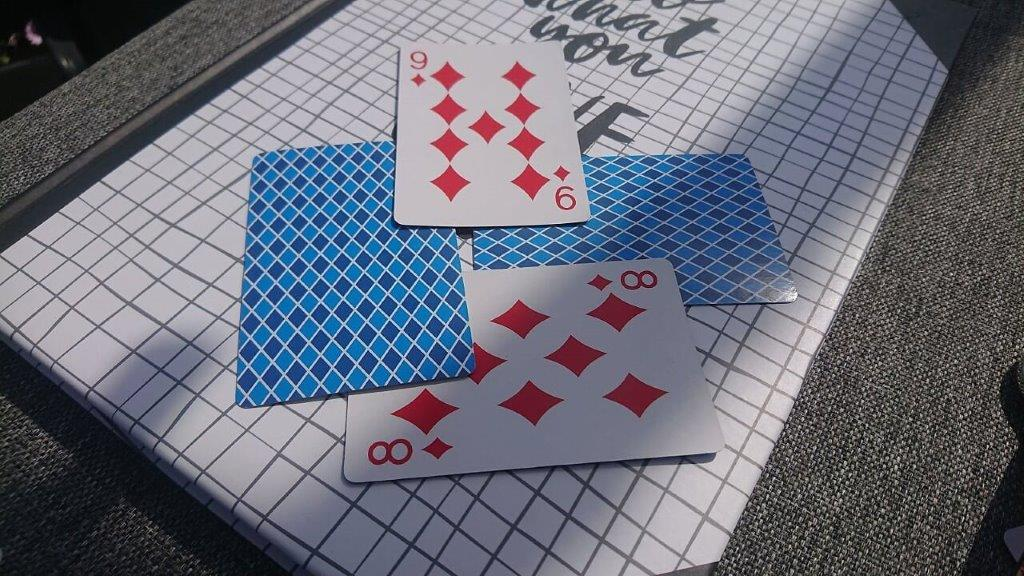9D: (406, 46, 430, 89)
BACK: (235, 141, 392, 409), (593, 153, 787, 256)
